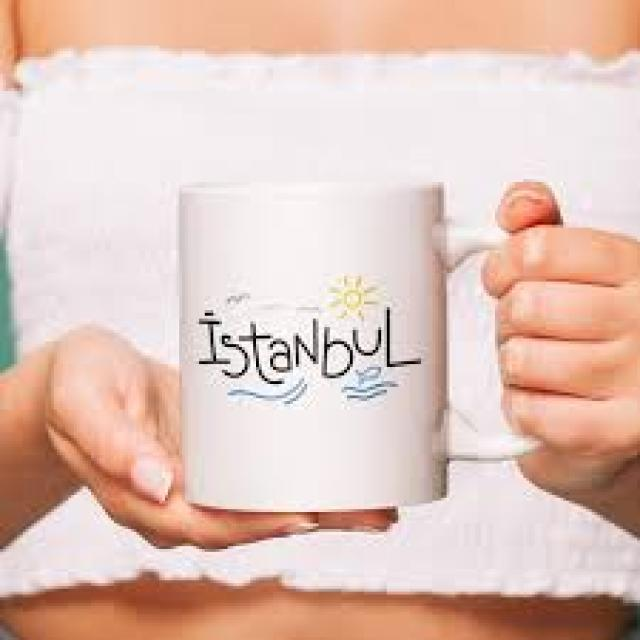taza: (178, 179, 574, 513)
